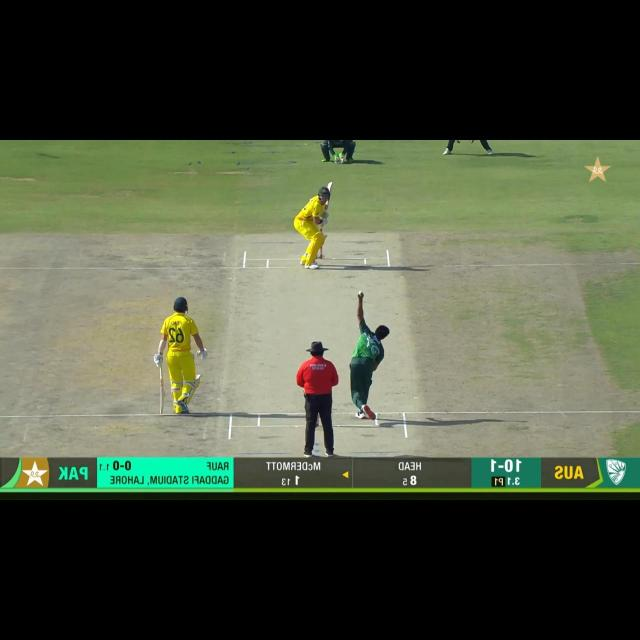bat: (322, 182, 332, 212), (158, 378, 165, 415)
toe: (327, 181, 334, 191), (158, 404, 164, 414)
